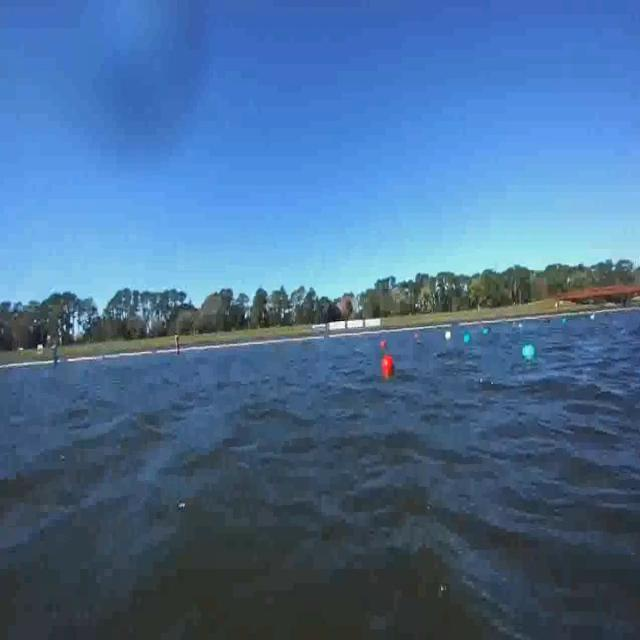green-buoy: (521, 342, 537, 362), (464, 334, 472, 346)
red-buoy: (382, 354, 394, 376)
yellow-buoy: (444, 329, 453, 342)
